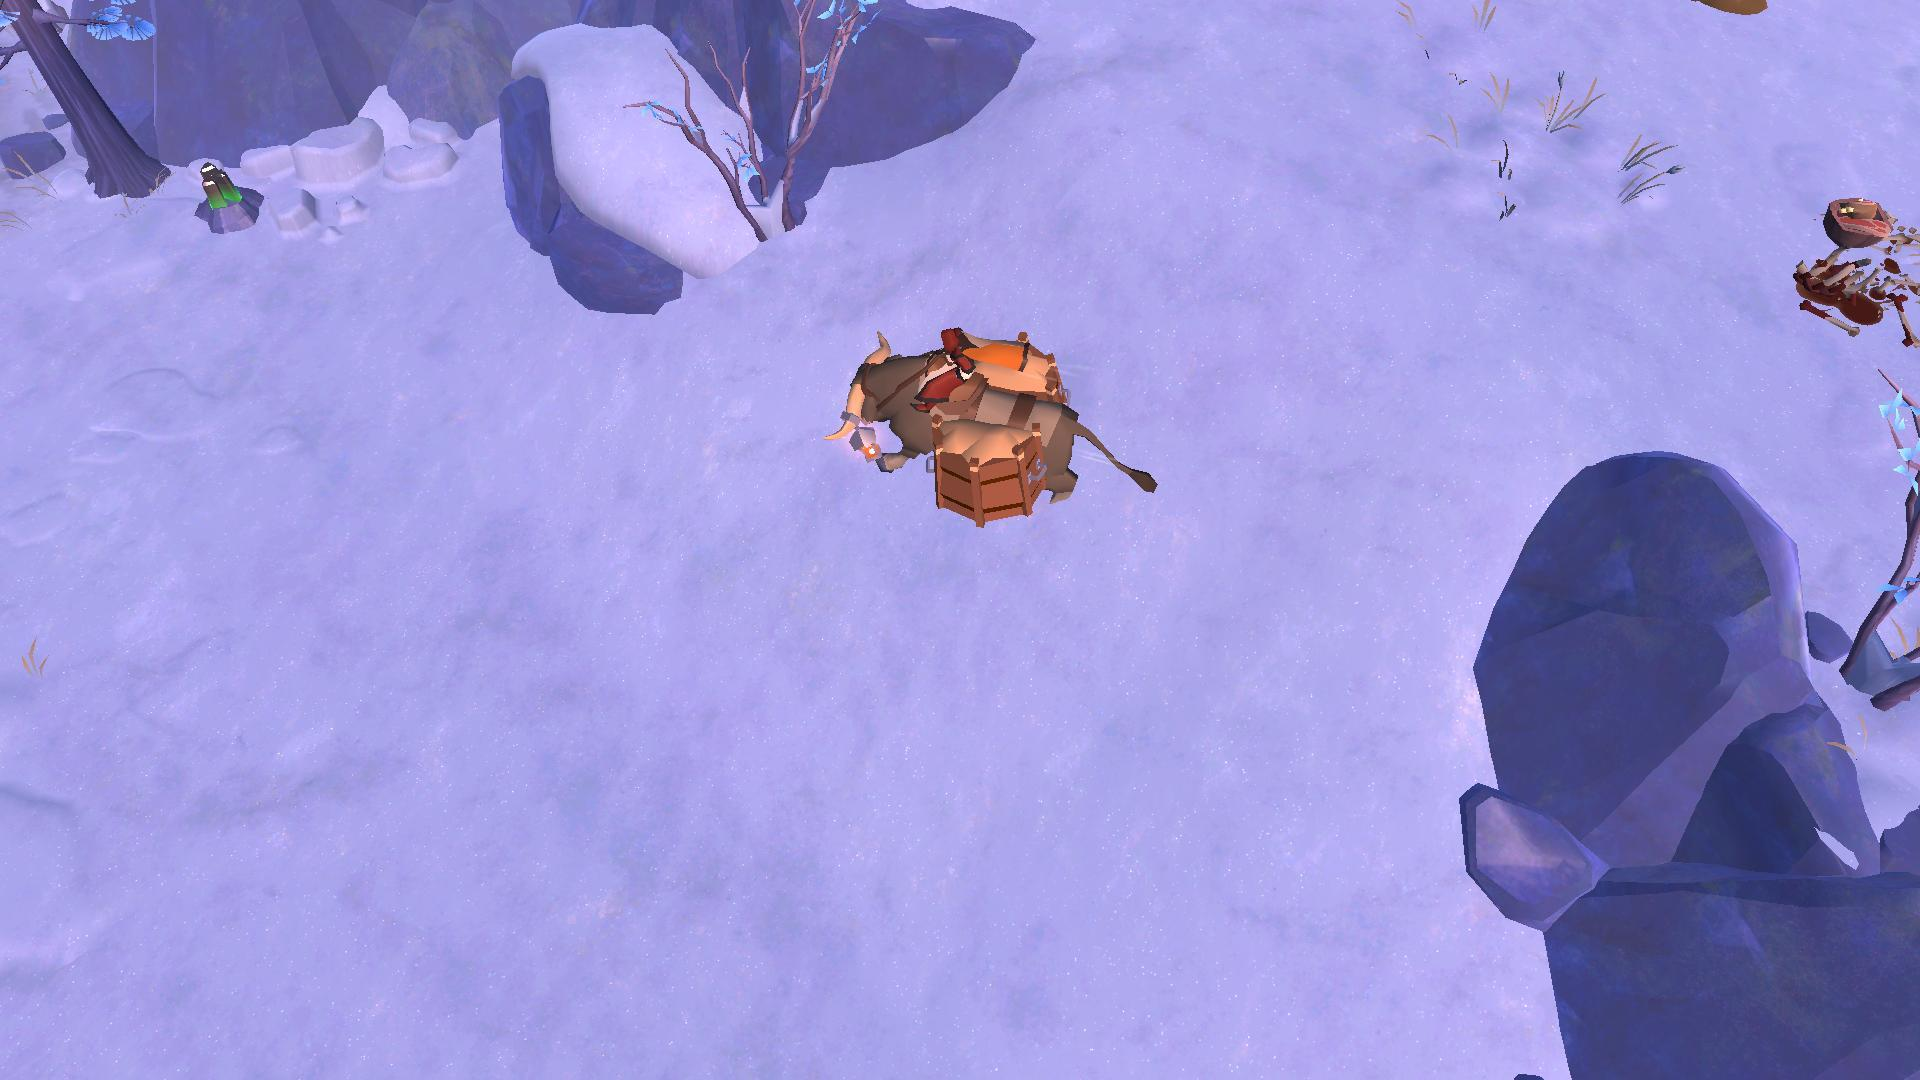ore_t3: (195, 156, 237, 208)
